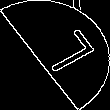L_SW: (20, 28, 90, 82)
